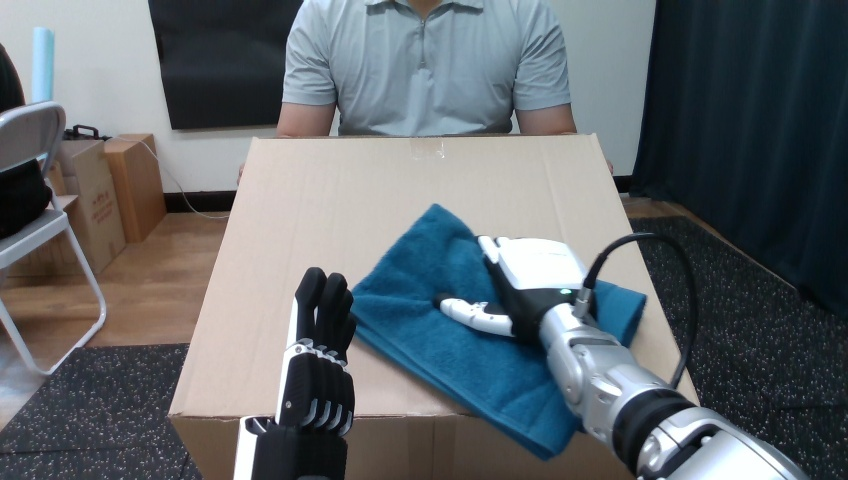left robot hand: (435, 233, 806, 479), (234, 267, 355, 479), (590, 238, 690, 384)
